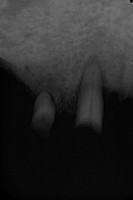Dental Caries: (76, 52, 108, 96)
